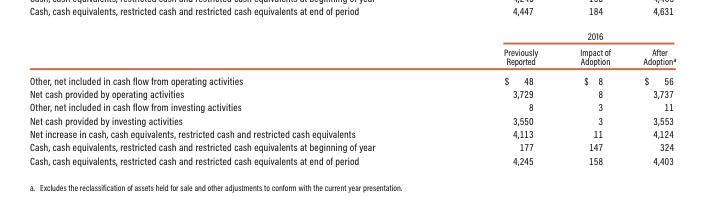table: (28, 28, 675, 166)
table column: (28, 28, 438, 166), (438, 28, 558, 166), (558, 28, 626, 166), (626, 28, 675, 166)
table column header: (28, 28, 675, 70)
table row: (28, 43, 675, 70), (28, 70, 675, 86), (28, 28, 675, 43), (28, 86, 675, 100), (28, 139, 675, 153), (28, 100, 675, 113), (28, 113, 675, 126), (28, 126, 675, 139), (28, 153, 675, 166)
table spanning cell: (438, 28, 675, 43)
